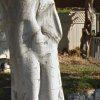Statue: (2, 5, 74, 100)
